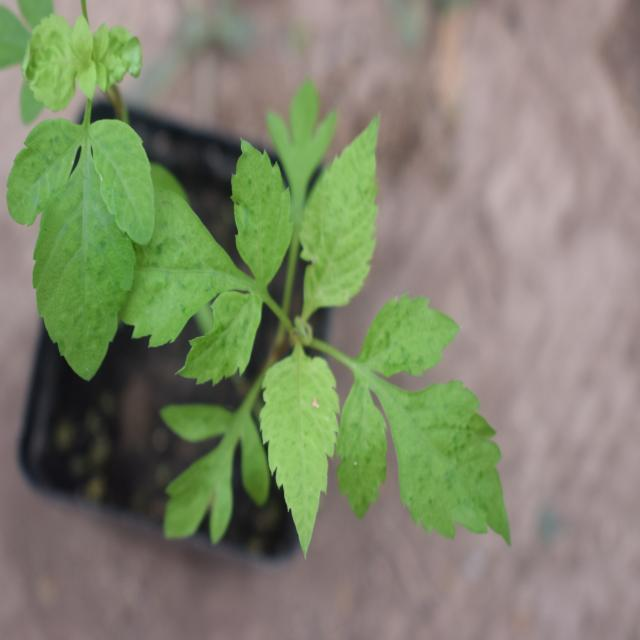Bidens pilosa: (137, 151, 528, 557), (2, 0, 159, 426)
